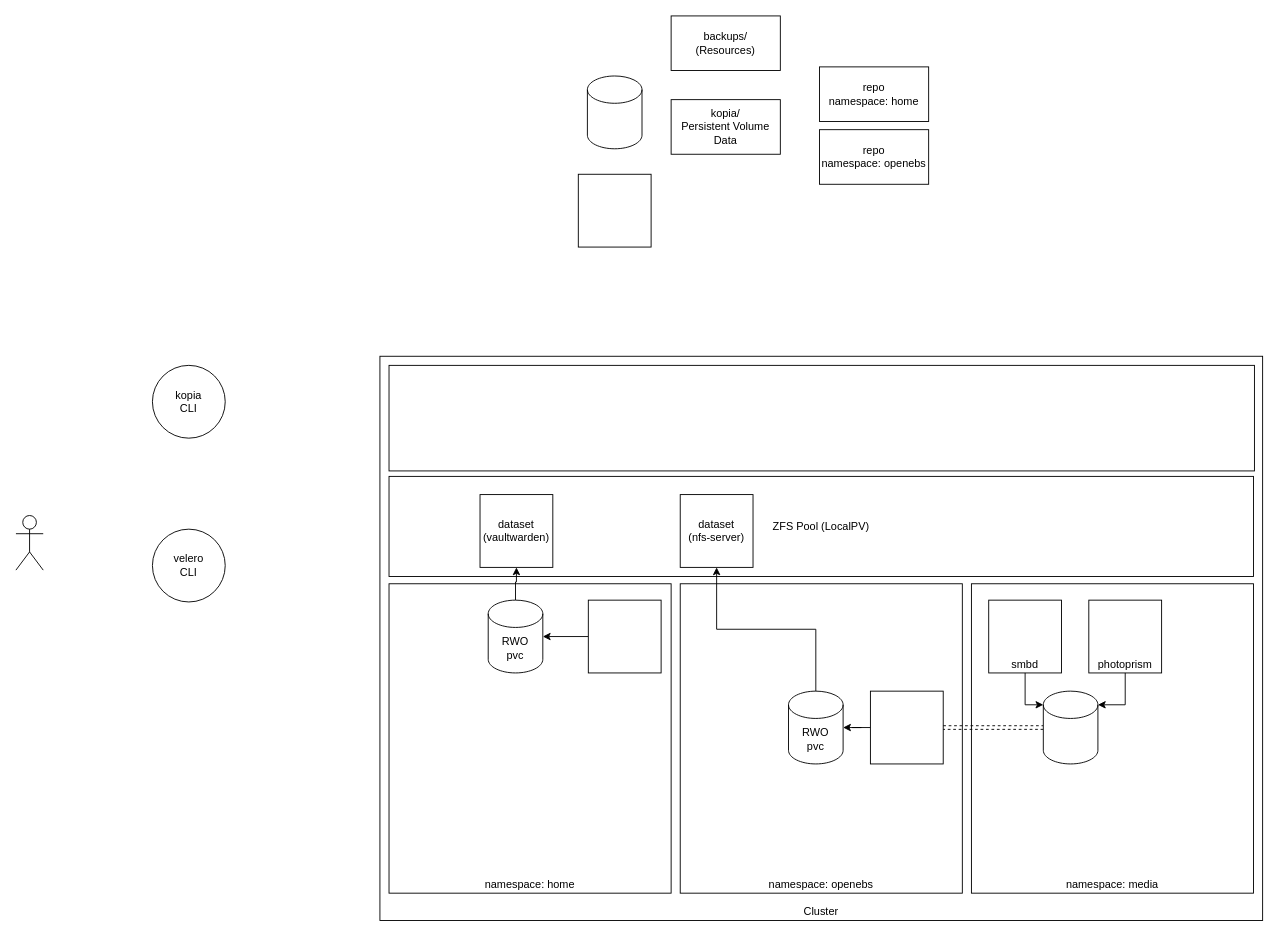
Some shapes in this 1279 by 936 pixel diagram are drawn without their labels. The centre of each missing label's shape, as x and y in pixels:
Azure Blob Storage: point (614, 210)
namespace: system: point (821, 417)
nfs-server: point (906, 727)
RWX pvc: point (1070, 727)
User: point (29, 542)
vaultwarden: point (624, 636)
velero container: point (614, 112)
